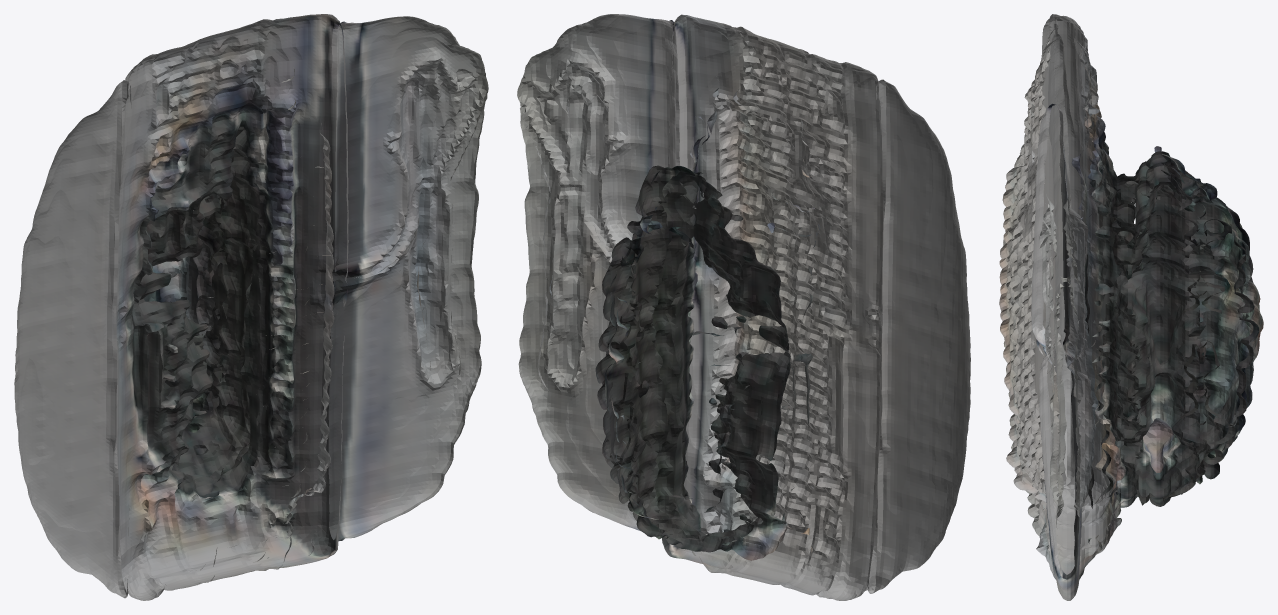
3 renders of one model, left to right at view 1: azimuth 30°, elevation 25°; view 2: azimuth 150°, elevation 25°; view 3: azimuth 270°, elevation 25°, orthographic. The views are drawn at different scales.
Visible parts, largest first — view 1: world; view 2: world; view 3: world.
Part boxes in pixels (bbox=[...]): world: bbox=[14, 14, 488, 600]; world: bbox=[517, 14, 970, 600]; world: bbox=[999, 14, 1263, 600].
Size of the model in its own units: 0.9243 by 1.04 by 0.5018.
